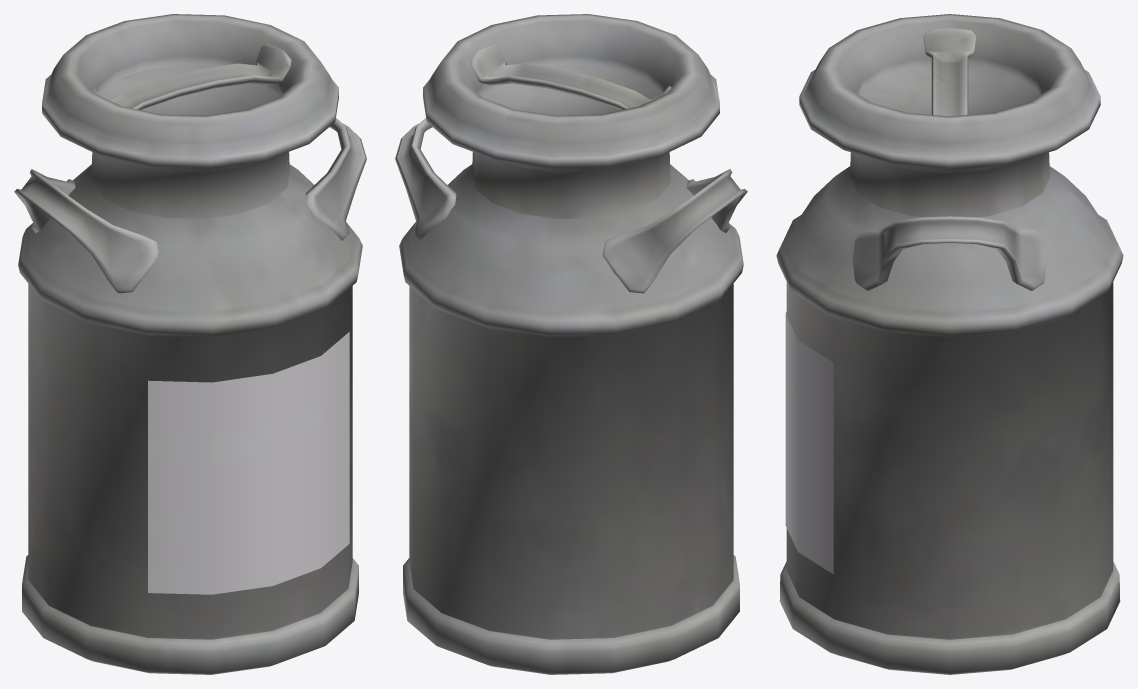
The picture shows the model from 3 angles, left to right: view 1: azimuth 30°, elevation 25°; view 2: azimuth 150°, elevation 25°; view 3: azimuth 270°, elevation 25°; orthographic projection.
Size of the model in its own units: 6.74 by 11.04 by 6.42.
2 materials, 2 textured.
